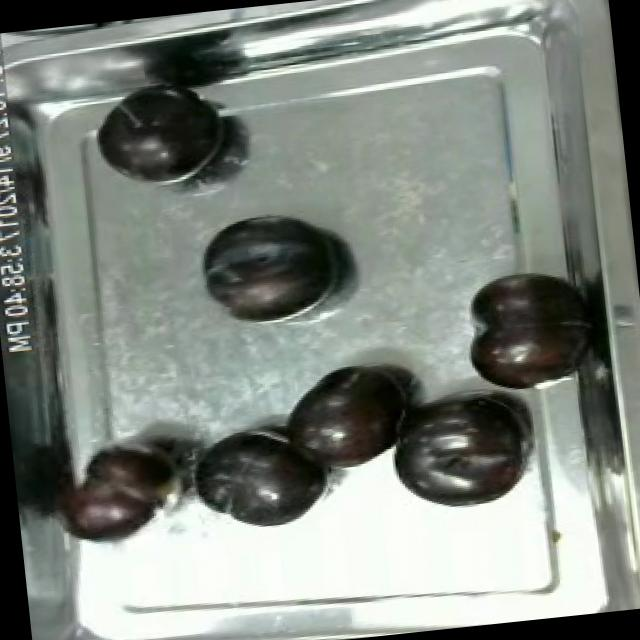Fruit: (376, 383, 540, 516), (189, 200, 352, 330), (454, 258, 596, 399), (182, 418, 336, 538), (84, 78, 236, 192), (276, 358, 416, 478), (59, 436, 188, 550)
